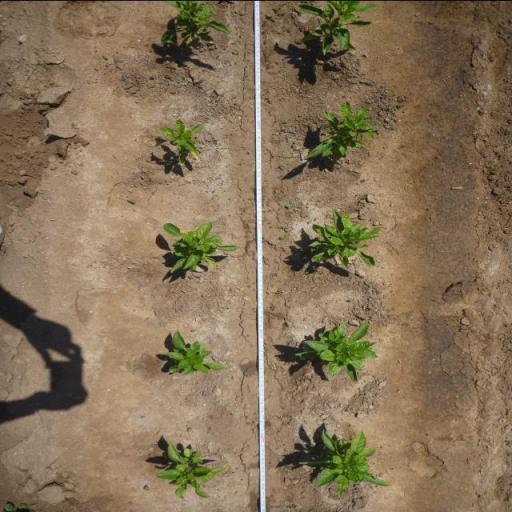plant: (296, 426, 392, 500), (294, 318, 380, 384), (308, 207, 385, 271), (302, 100, 380, 162), (295, 0, 380, 54), (155, 440, 230, 500), (161, 220, 242, 272), (155, 0, 232, 51), (163, 331, 227, 376), (152, 117, 206, 165)
weed: (3, 501, 33, 512), (284, 198, 303, 208), (141, 484, 151, 490), (278, 414, 286, 420), (270, 304, 278, 310), (186, 426, 193, 432), (280, 234, 287, 240), (276, 290, 282, 294), (348, 298, 356, 301), (188, 274, 194, 278), (191, 328, 197, 331)
